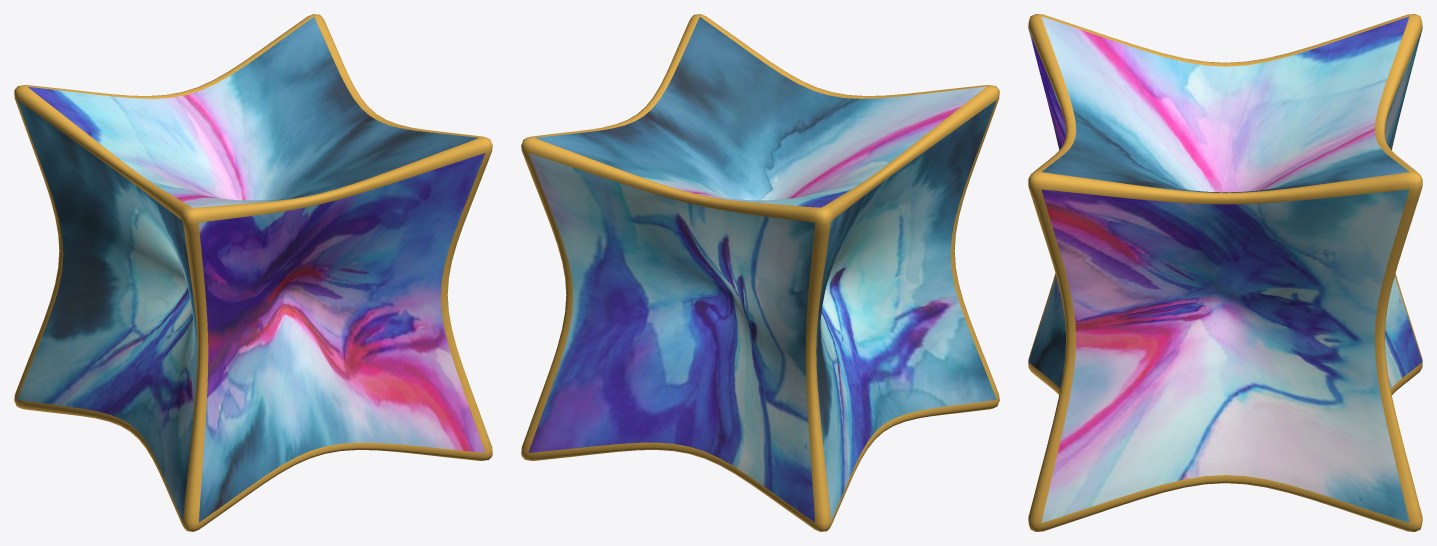
The model's file is orb.fbx.
3 views of the same model, side by side, from view 1: azimuth 30°, elevation 25°; view 2: azimuth 150°, elevation 25°; view 3: azimuth 270°, elevation 25° (orthographic). The views are drawn at different scales.
Parts seen in each view (by area): view 1: Abstract Star Shape by iayseozdemir; view 2: Abstract Star Shape by iayseozdemir; view 3: Abstract Star Shape by iayseozdemir.
Part boxes in pixels (left/top/right/bottom): Abstract Star Shape by iayseozdemir: left=14, top=14, right=492, bottom=531; Abstract Star Shape by iayseozdemir: left=521, top=14, right=999, bottom=531; Abstract Star Shape by iayseozdemir: left=1028, top=14, right=1422, bottom=531.
Bounding box in the file's own units: 1.02 × 1.02 × 1.02.
